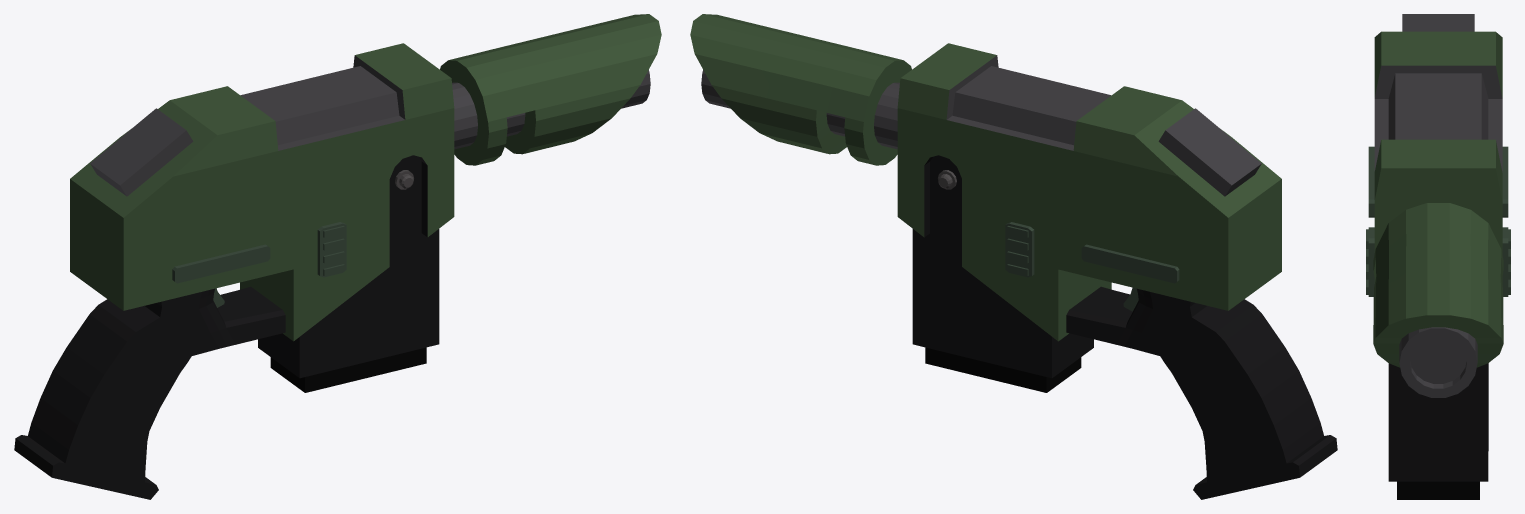
The model's file is Accatran_MG_Variant_Heavy_Laspistol_Green.fbx.
3 views of the same model, side by side, from view 1: azimuth 30°, elevation 25°; view 2: azimuth 150°, elevation 25°; view 3: azimuth 270°, elevation 25° (orthographic). The views are drawn at different scales.
Parts seen in each view (by area): view 1: Accatran_MG_Variant_Heavy_Laspistol_Green; view 2: Accatran_MG_Variant_Heavy_Laspistol_Green; view 3: Accatran_MG_Variant_Heavy_Laspistol_Green.
Part boxes in pixels (left/top/right/bottom): Accatran_MG_Variant_Heavy_Laspistol_Green: left=14, top=14, right=661, bottom=499; Accatran_MG_Variant_Heavy_Laspistol_Green: left=690, top=14, right=1337, bottom=499; Accatran_MG_Variant_Heavy_Laspistol_Green: left=1366, top=14, right=1510, bottom=499.
Size of the model in its own units: 116 by 63.78 by 19.58.
